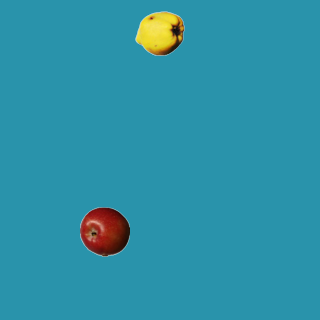Apple Braeburn: (79, 206, 129, 256)
Quince: (134, 8, 184, 58)
